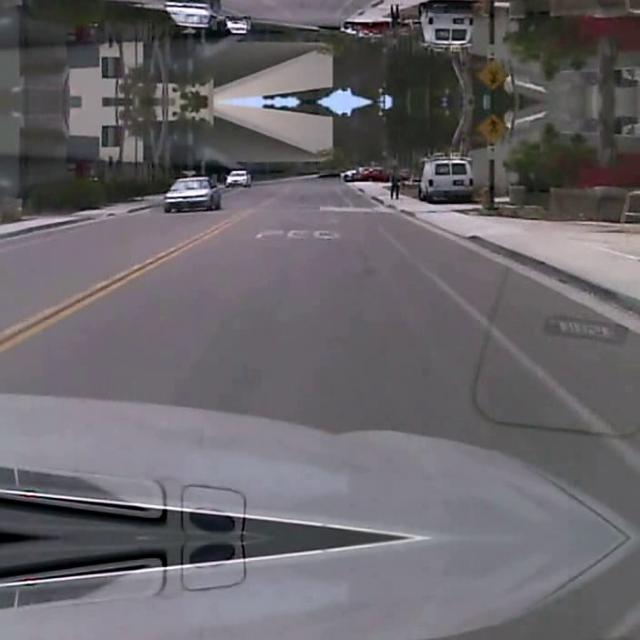pedestrianCrossing: (476, 110, 508, 142), (476, 60, 508, 92)
